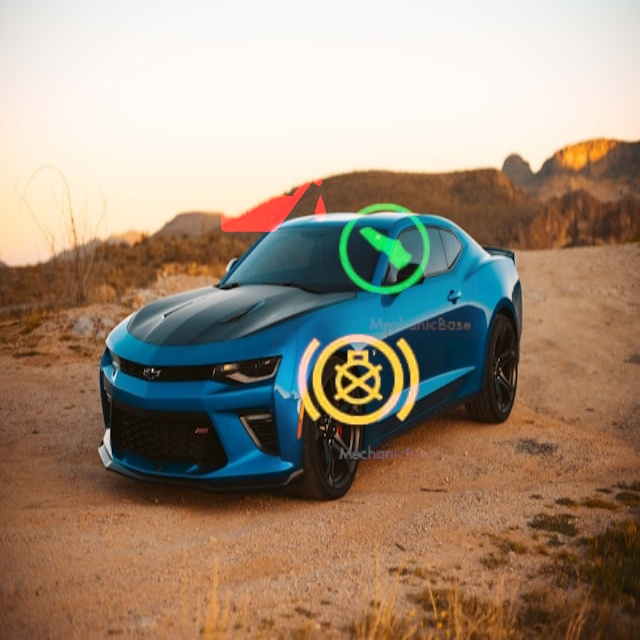symbol: (167, 90, 361, 284), (300, 161, 478, 339), (271, 294, 445, 468)
